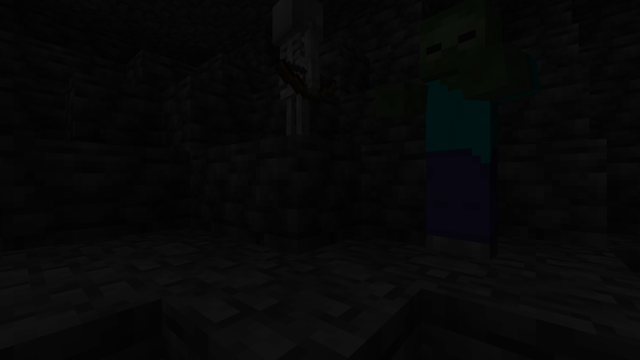squelettes: (266, 0, 328, 122)
zombies: (413, 1, 505, 267)
